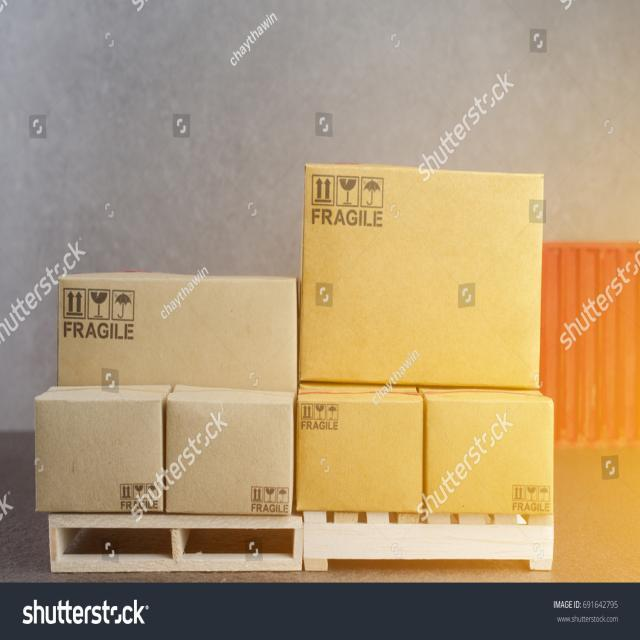BoxFace: (298, 159, 544, 391), (425, 390, 555, 518), (296, 390, 424, 516), (165, 396, 293, 519), (35, 394, 164, 516)
